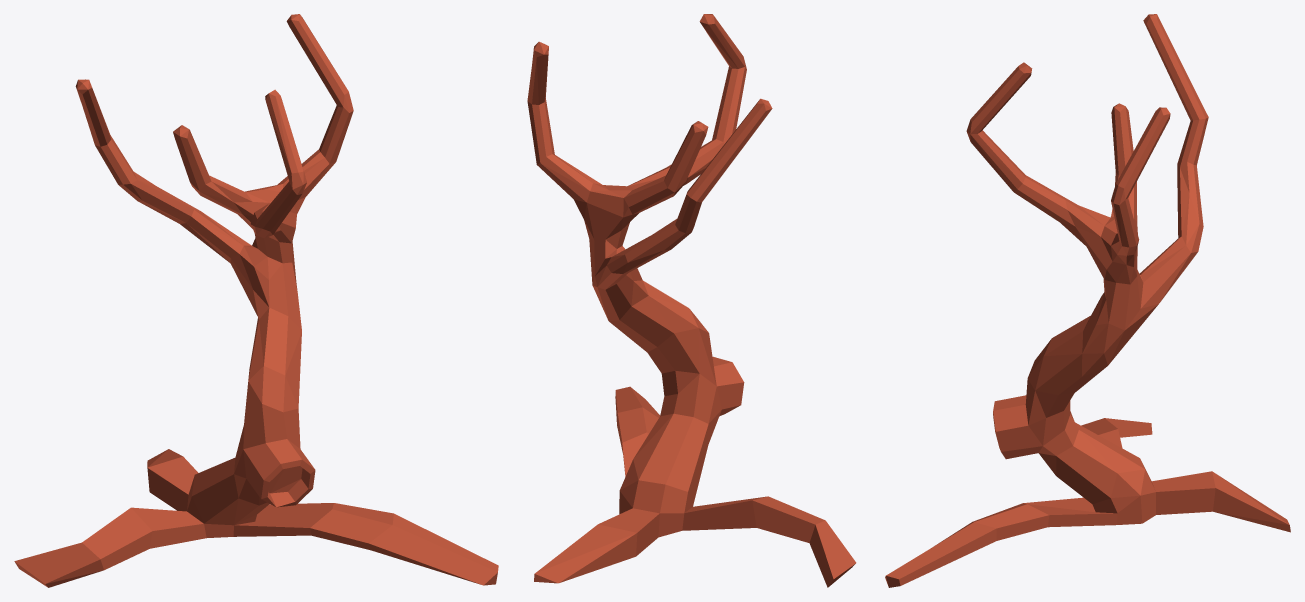
Rendered from tree_D_01.fbx.
3 renders of one model, left to right at view 1: azimuth 30°, elevation 25°; view 2: azimuth 150°, elevation 25°; view 3: azimuth 270°, elevation 25°, orthographic. The views are drawn at different scales.
Parts seen in each view (by area): view 1: tree_D_01; view 2: tree_D_01; view 3: tree_D_01.
Boxes of the visible parts, bbox=[...] form: tree_D_01: bbox=[14, 14, 498, 587]; tree_D_01: bbox=[527, 14, 856, 587]; tree_D_01: bbox=[885, 14, 1290, 587].
Bounding box in the file's own units: 202 × 264 × 212.
